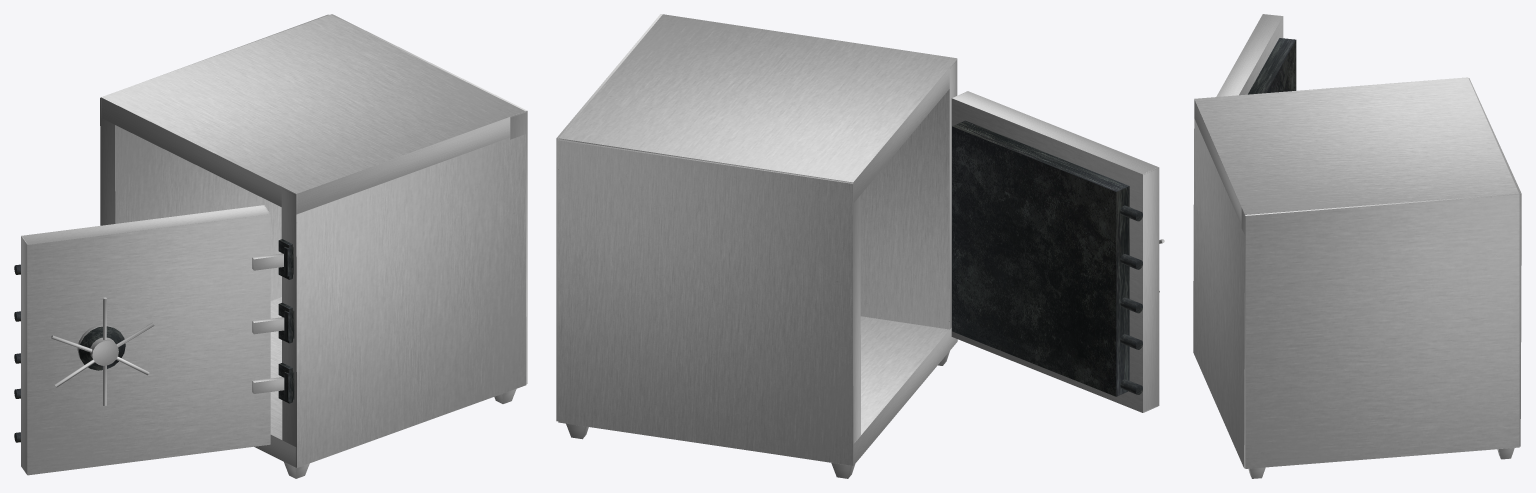
The model's file is safe.obj.
3 views of the same model, side by side, from view 1: azimuth 30°, elevation 25°; view 2: azimuth 150°, elevation 25°; view 3: azimuth 270°, elevation 25° (orthographic). The views are drawn at different scales.
Visible parts, largest first — view 1: Box003_01_-_Default.002, Box006_01_-_Default.002, Box002_01_-_Default.002, Box004_01_-_Default.002, Box001_01_-_Default.002, Box005_01_-_Default.002, Cylinder007_03_-_Default.001, Cylinder007_01_-_Default.002; view 2: Box004_01_-_Default.002, Box002_01_-_Default.002, Box020_03_-_Default.001, Box003_01_-_Default.002, Box006_01_-_Default.002, Box001_01_-_Default.002, Box005_01_-_Default.002; view 3: Box005_01_-_Default.002, Box002_01_-_Default.002, Box003_01_-_Default.002, Box006_01_-_Default.002, Box020_03_-_Default.001, Box004_01_-_Default.002.
Part boxes in pixels (x1,y1,x2,y2): Box003_01_-_Default.002: [281, 134, 526, 467]; Box006_01_-_Default.002: [21, 205, 270, 475]; Box002_01_-_Default.002: [101, 14, 525, 214]; Box004_01_-_Default.002: [100, 14, 328, 300]; Box001_01_-_Default.002: [254, 297, 296, 467]; Box005_01_-_Default.002: [330, 14, 527, 384]; Cylinder007_03_-_Default.001: [79, 326, 125, 370]; Cylinder007_01_-_Default.002: [92, 340, 118, 365]; Box004_01_-_Default.002: [558, 139, 860, 465]; Box002_01_-_Default.002: [559, 14, 957, 203]; Box020_03_-_Default.001: [952, 120, 1129, 396]; Box003_01_-_Default.002: [860, 59, 957, 341]; Box006_01_-_Default.002: [951, 91, 1159, 412]; Box001_01_-_Default.002: [800, 316, 957, 465]; Box005_01_-_Default.002: [556, 14, 662, 421]; Box005_01_-_Default.002: [1241, 193, 1519, 468]; Box002_01_-_Default.002: [1194, 77, 1518, 225]; Box003_01_-_Default.002: [1193, 119, 1244, 468]; Box006_01_-_Default.002: [1216, 14, 1283, 96]; Box020_03_-_Default.001: [1248, 38, 1296, 94]; Box004_01_-_Default.002: [1468, 78, 1521, 446].
Bounding box in the file's own units: 4.93 × 2.79 × 3.09.
Materials: 5 (3 with a texture image).
